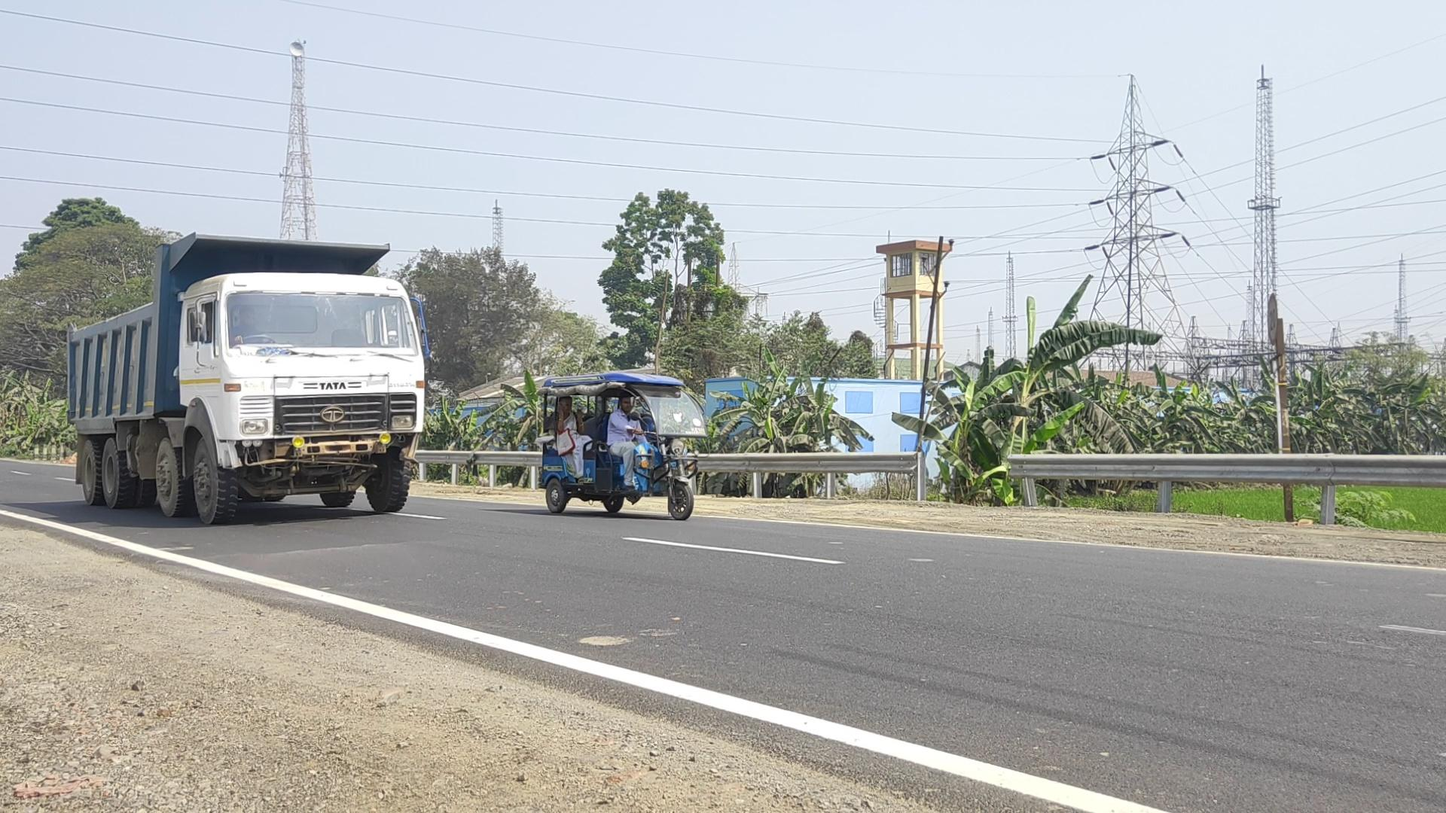Auto: (542, 371, 707, 521)
truck: (66, 232, 429, 526)
